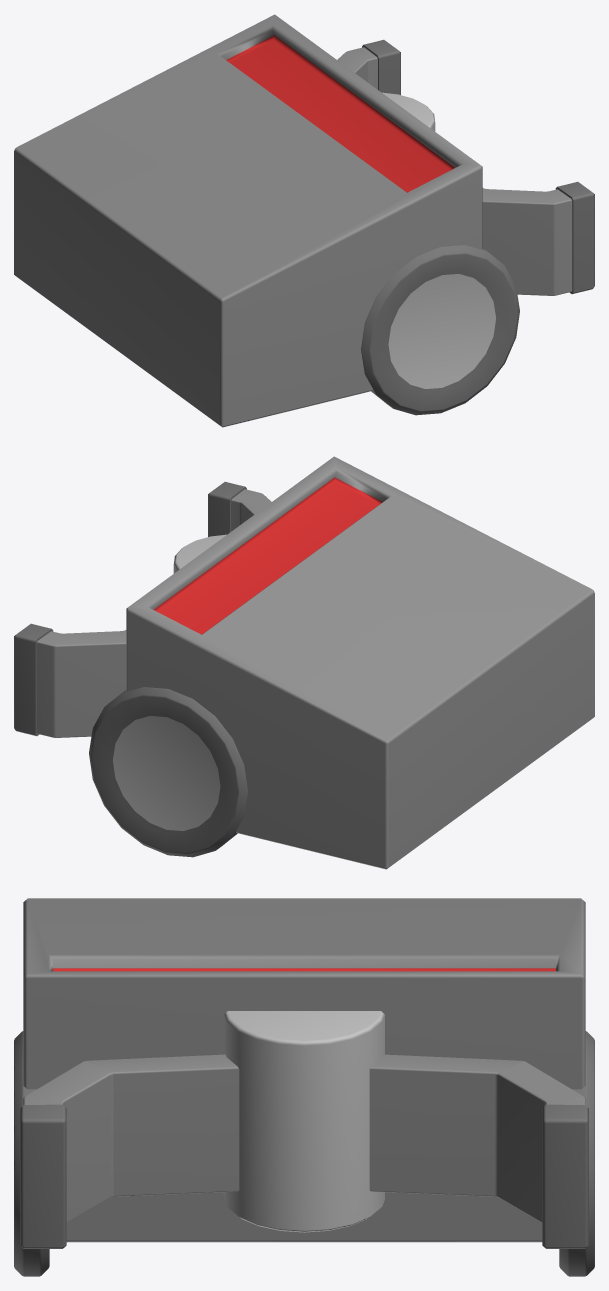
Rendered from gripper.fbx.
The picture shows the model from 3 angles, top to bottom: view 1: azimuth 30°, elevation 25°; view 2: azimuth 150°, elevation 25°; view 3: azimuth 270°, elevation 25°; orthographic projection. The views are drawn at different scales.
Parts seen in each view (by area): view 1: gripper; view 2: gripper; view 3: gripper.
Boxes of the visible parts, <box> form: gripper: <box>14,14,594,427</box>; gripper: <box>14,456,594,869</box>; gripper: <box>14,898,594,1276</box>.
Size of the model in its own units: 1 by 0.6066 by 1.
